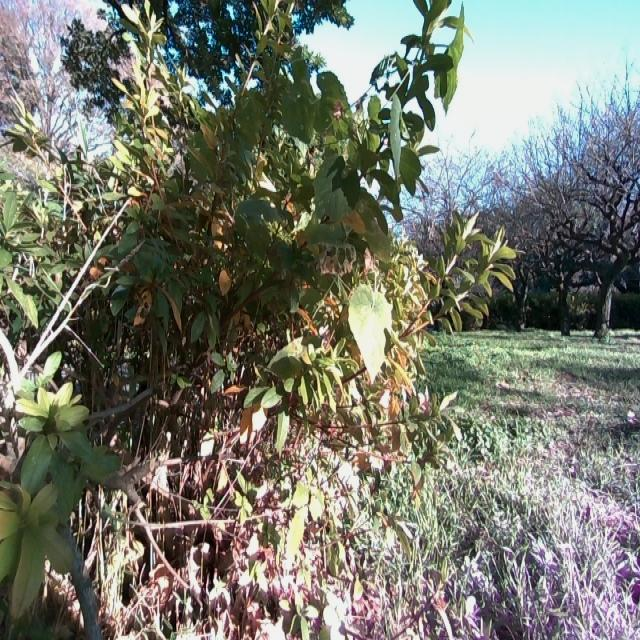bush: (7, 1, 499, 640)
tree: (578, 103, 638, 341), (527, 165, 589, 347)
